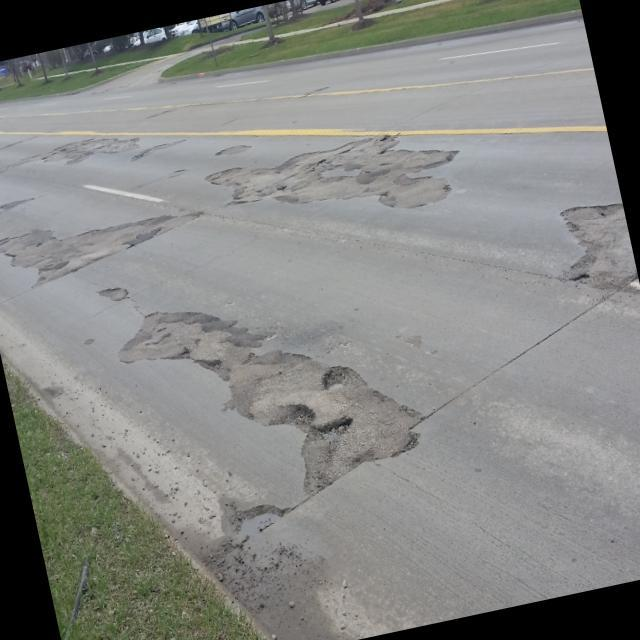Pothole: (228, 486, 288, 550), (263, 389, 318, 432), (308, 404, 359, 446), (316, 357, 355, 398), (194, 352, 227, 379), (375, 122, 402, 148), (568, 267, 592, 291)
